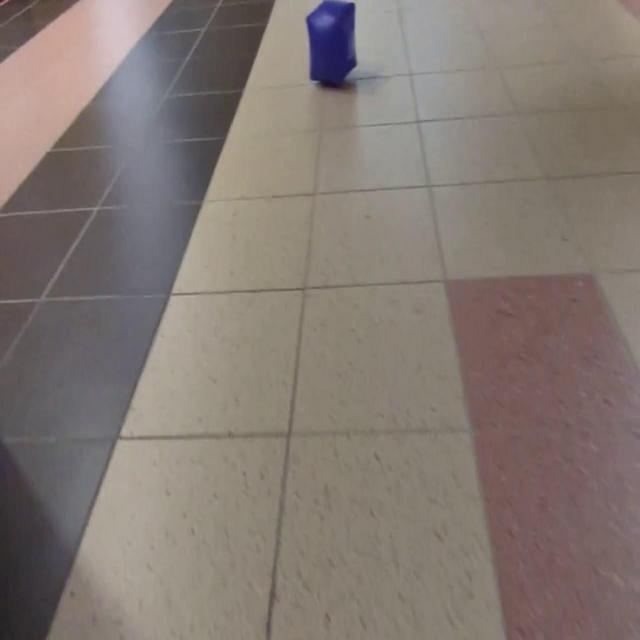frc_cube: (305, 0, 359, 87)
